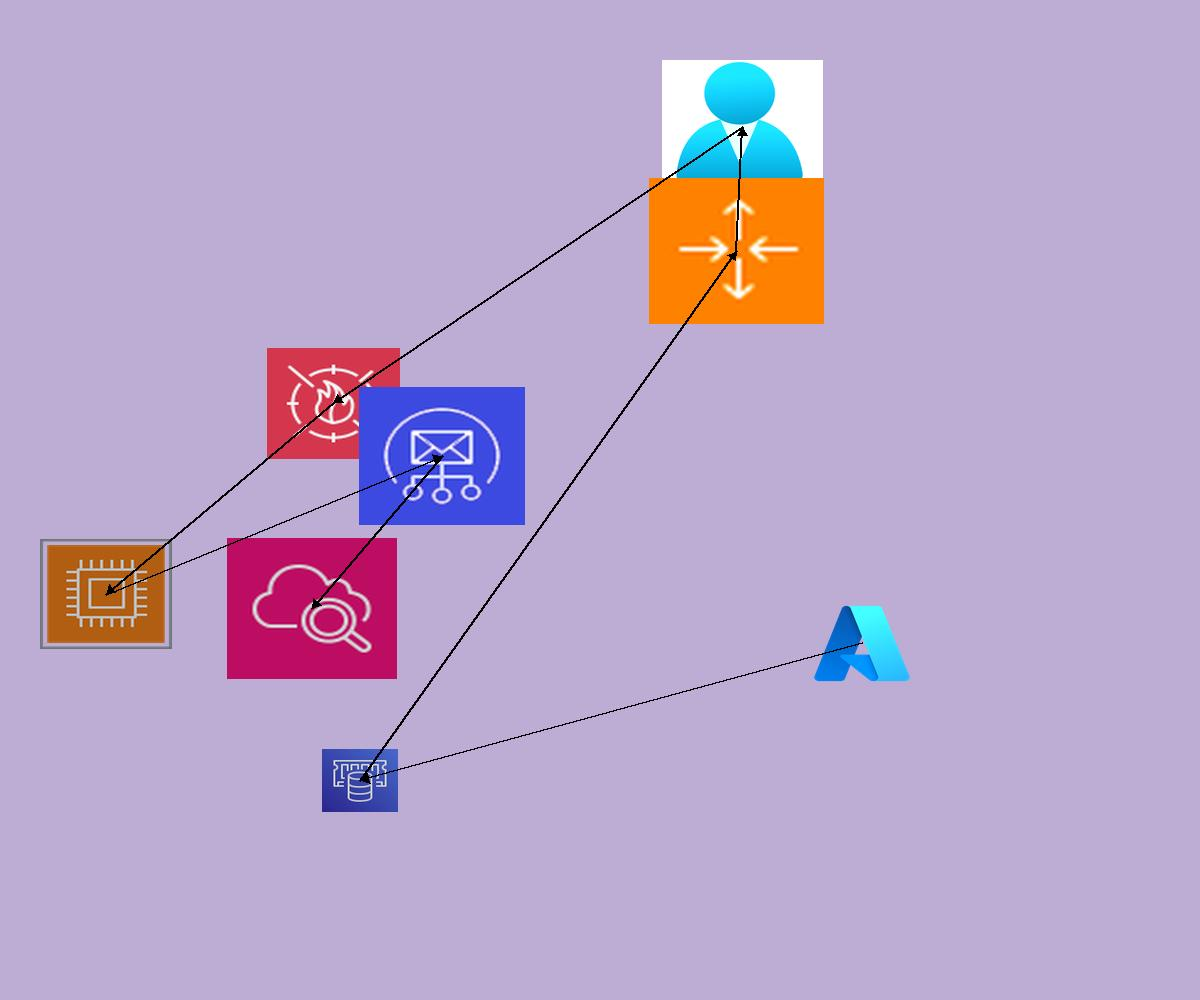AWS-Category_Compute: (40, 539, 172, 649)
AWS-CloudWatch: (227, 538, 397, 679)
AWS-ElastiCache: (322, 749, 398, 812)
AWS-Scaling-group: (649, 178, 824, 324)
AWS-Simple-Email-Service: (359, 387, 525, 525)
AWS-WAF: (267, 348, 400, 459)
Azure_services: (810, 600, 914, 687)
Azure_users: (662, 60, 823, 194)
